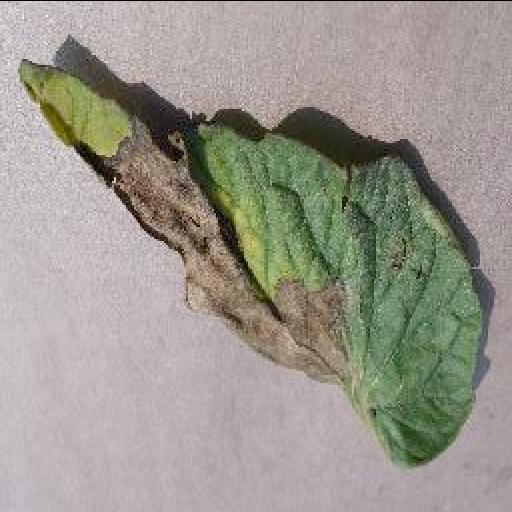disease_tomato: (14, 58, 482, 464)
